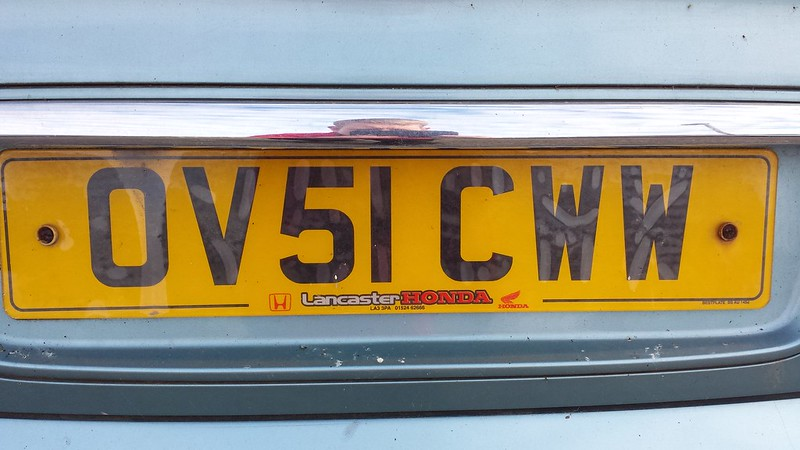number_plate: (5, 131, 780, 344)
